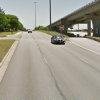Bridge: (49, 2, 99, 31)
